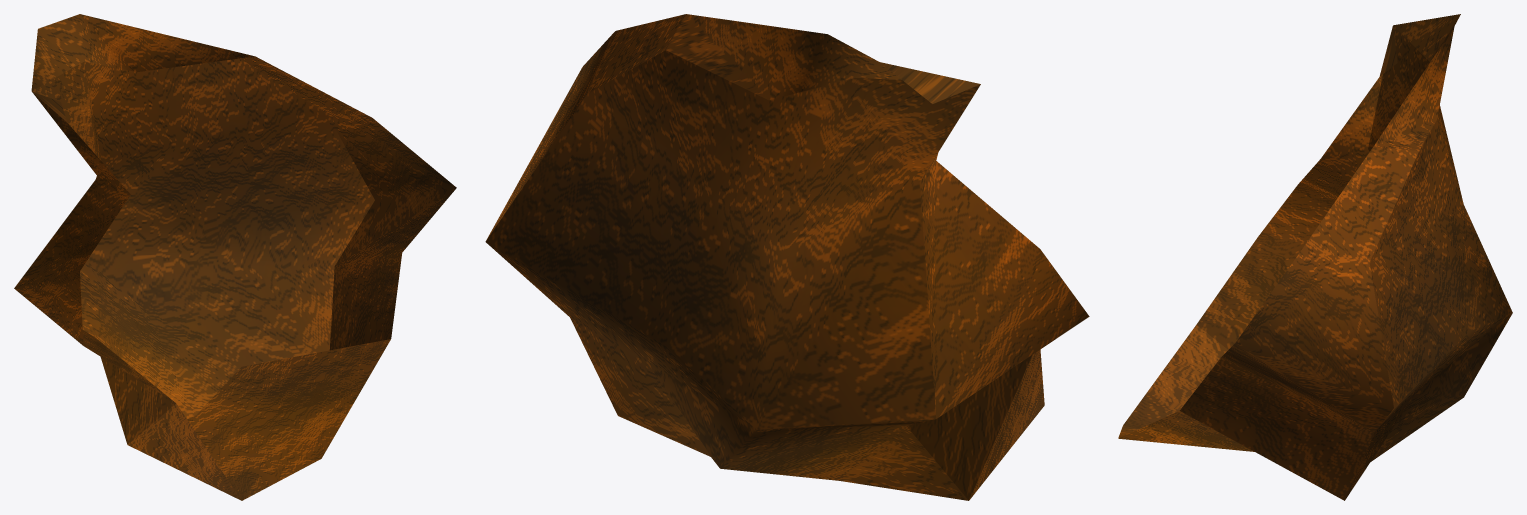
File: oreBig.FBX
3 views of the same model, side by side, from view 1: azimuth 30°, elevation 25°; view 2: azimuth 150°, elevation 25°; view 3: azimuth 270°, elevation 25° (orthographic). The views are drawn at different scales.
Visible parts, largest first — view 1: Box007; view 2: Box007; view 3: Box007.
Part boxes in pixels (x1=…): Box007: x1=14, y1=14, x2=456, y2=500; Box007: x1=485, y1=14, x2=1089, y2=500; Box007: x1=1118, y1=14, x2=1512, y2=500.
Size of the model in its own units: 110 by 108 by 97.64.
